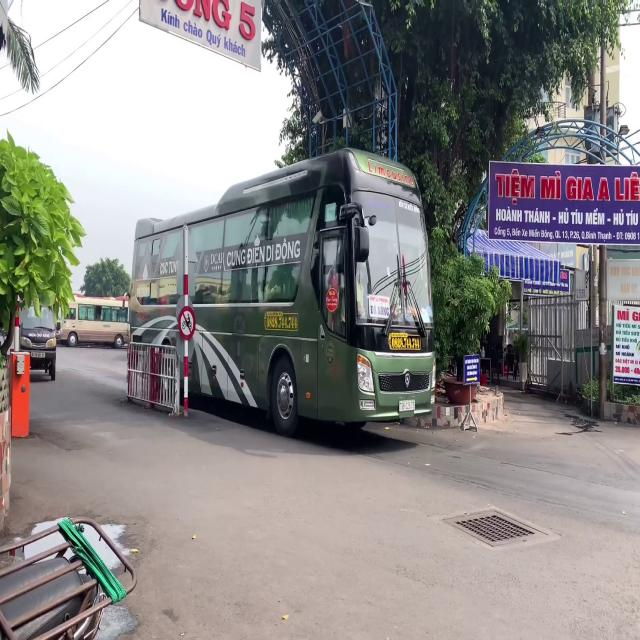bien_trang: (398, 401, 416, 411), (30, 351, 46, 357)
